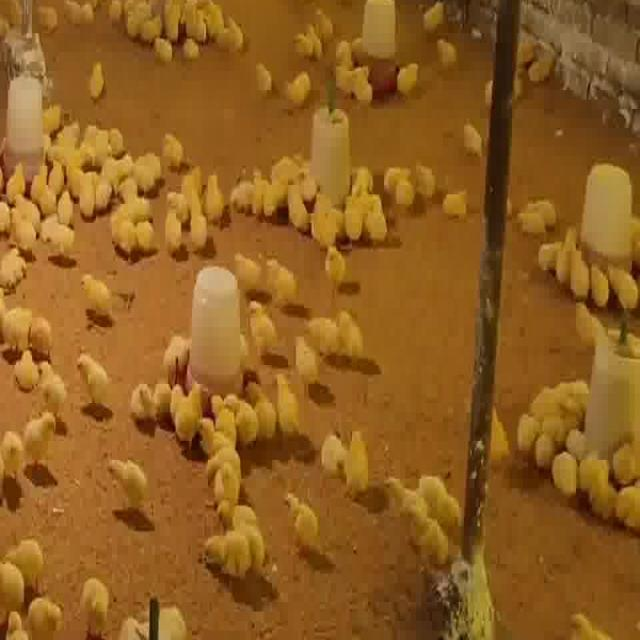poussin: (76, 350, 114, 422), (106, 454, 149, 513), (200, 537, 258, 578), (76, 266, 115, 326), (37, 354, 71, 420), (22, 416, 58, 474), (404, 510, 450, 555), (244, 380, 278, 440), (30, 580, 66, 636), (214, 502, 262, 544), (2, 194, 39, 248), (272, 371, 300, 442), (284, 490, 320, 545), (243, 303, 276, 361), (374, 478, 430, 512), (490, 416, 520, 479), (263, 255, 298, 308), (584, 462, 618, 516), (174, 384, 202, 446), (336, 306, 366, 362), (2, 306, 36, 354), (79, 575, 109, 629), (0, 424, 23, 494), (208, 388, 236, 444), (285, 180, 314, 233), (344, 432, 370, 491), (224, 394, 257, 440), (164, 2, 208, 36), (108, 212, 139, 260), (4, 536, 43, 574), (560, 611, 611, 640), (4, 589, 33, 640), (294, 330, 320, 386), (206, 448, 249, 480), (611, 260, 637, 312), (40, 213, 74, 252), (567, 252, 592, 304), (134, 147, 166, 186), (344, 192, 368, 244), (318, 437, 347, 480), (187, 198, 210, 252), (308, 312, 338, 352), (203, 172, 227, 222), (14, 348, 42, 390), (28, 312, 58, 351), (133, 379, 160, 422), (536, 386, 567, 422), (314, 198, 340, 240), (551, 454, 577, 496), (214, 466, 244, 502), (214, 22, 252, 50), (269, 158, 289, 211), (0, 252, 28, 288), (78, 162, 99, 210), (115, 188, 151, 216), (308, 7, 332, 48), (154, 379, 176, 423), (461, 121, 484, 163), (322, 246, 346, 286), (554, 378, 588, 406), (5, 160, 27, 203), (534, 422, 554, 469), (285, 72, 311, 108), (396, 55, 420, 94), (514, 408, 538, 447), (62, 2, 95, 30), (162, 212, 185, 252), (135, 218, 159, 256), (415, 162, 439, 200), (250, 162, 266, 218), (122, 158, 148, 192), (233, 248, 256, 286), (620, 482, 639, 528), (438, 192, 468, 221), (162, 130, 186, 166), (100, 152, 121, 193), (396, 174, 418, 213), (514, 208, 548, 233), (132, 12, 162, 40), (178, 167, 202, 202), (56, 189, 78, 227), (230, 178, 256, 210), (84, 124, 107, 160), (153, 33, 177, 67), (366, 200, 388, 237), (162, 167, 192, 194), (591, 266, 609, 311), (556, 238, 573, 284), (352, 66, 373, 102), (32, 174, 54, 208), (557, 410, 586, 435), (352, 164, 376, 193), (539, 242, 562, 272), (335, 56, 354, 92), (62, 125, 82, 159), (529, 198, 559, 220), (36, 7, 60, 34), (90, 62, 106, 101), (49, 155, 65, 194), (564, 428, 586, 456), (256, 60, 274, 94), (181, 34, 200, 66), (433, 36, 452, 68), (376, 165, 402, 186), (300, 32, 320, 59), (96, 177, 111, 213), (64, 154, 77, 192), (110, 122, 127, 151), (108, 0, 122, 30)
